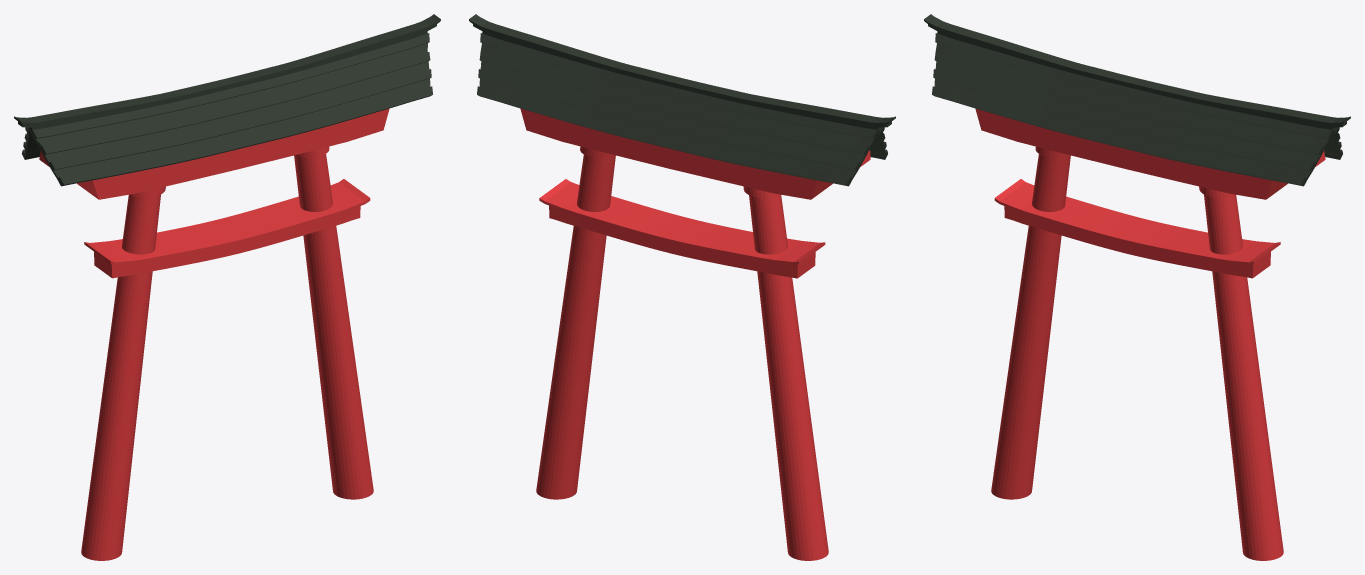
Rendered from torii.fbx.
3 renders of one model, left to right at view 1: azimuth 30°, elevation 25°; view 2: azimuth 150°, elevation 25°; view 3: azimuth 330°, elevation 25°, orthographic.
Visible parts, largest first — view 1: Cylinder, Cylinder.003, Cylinder.001, Cylinder.002, Cube; view 2: Cylinder, Cylinder.003, Cylinder.001, Cylinder.002, Cube; view 3: Cylinder, Cylinder.003, Cylinder.001, Cylinder.002, Cube.
Boxes of the visible parts, <box> form: Cylinder: <box>81,146,373,560</box>; Cylinder.003: <box>22,33,432,186</box>; Cylinder.001: <box>84,179,370,278</box>; Cylinder.002: <box>39,108,389,199</box>; Cube: <box>14,14,440,133</box>; Cylinder: <box>536,146,828,560</box>; Cylinder.003: <box>477,33,887,186</box>; Cylinder.001: <box>539,179,825,278</box>; Cylinder.002: <box>520,108,870,199</box>; Cube: <box>469,14,895,133</box>; Cylinder: <box>991,146,1283,560</box>; Cylinder.003: <box>932,33,1342,186</box>; Cylinder.001: <box>994,179,1280,278</box>; Cylinder.002: <box>975,108,1325,199</box>; Cube: <box>924,14,1350,133</box>.
Bounding box in the file's own units: 2368 × 2446 × 413.
